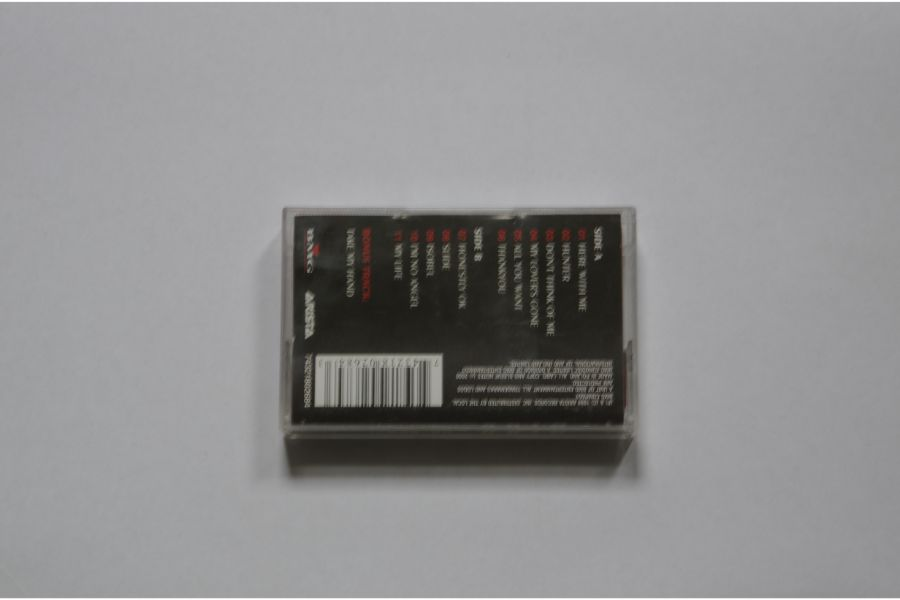album: (279, 204, 640, 438)
